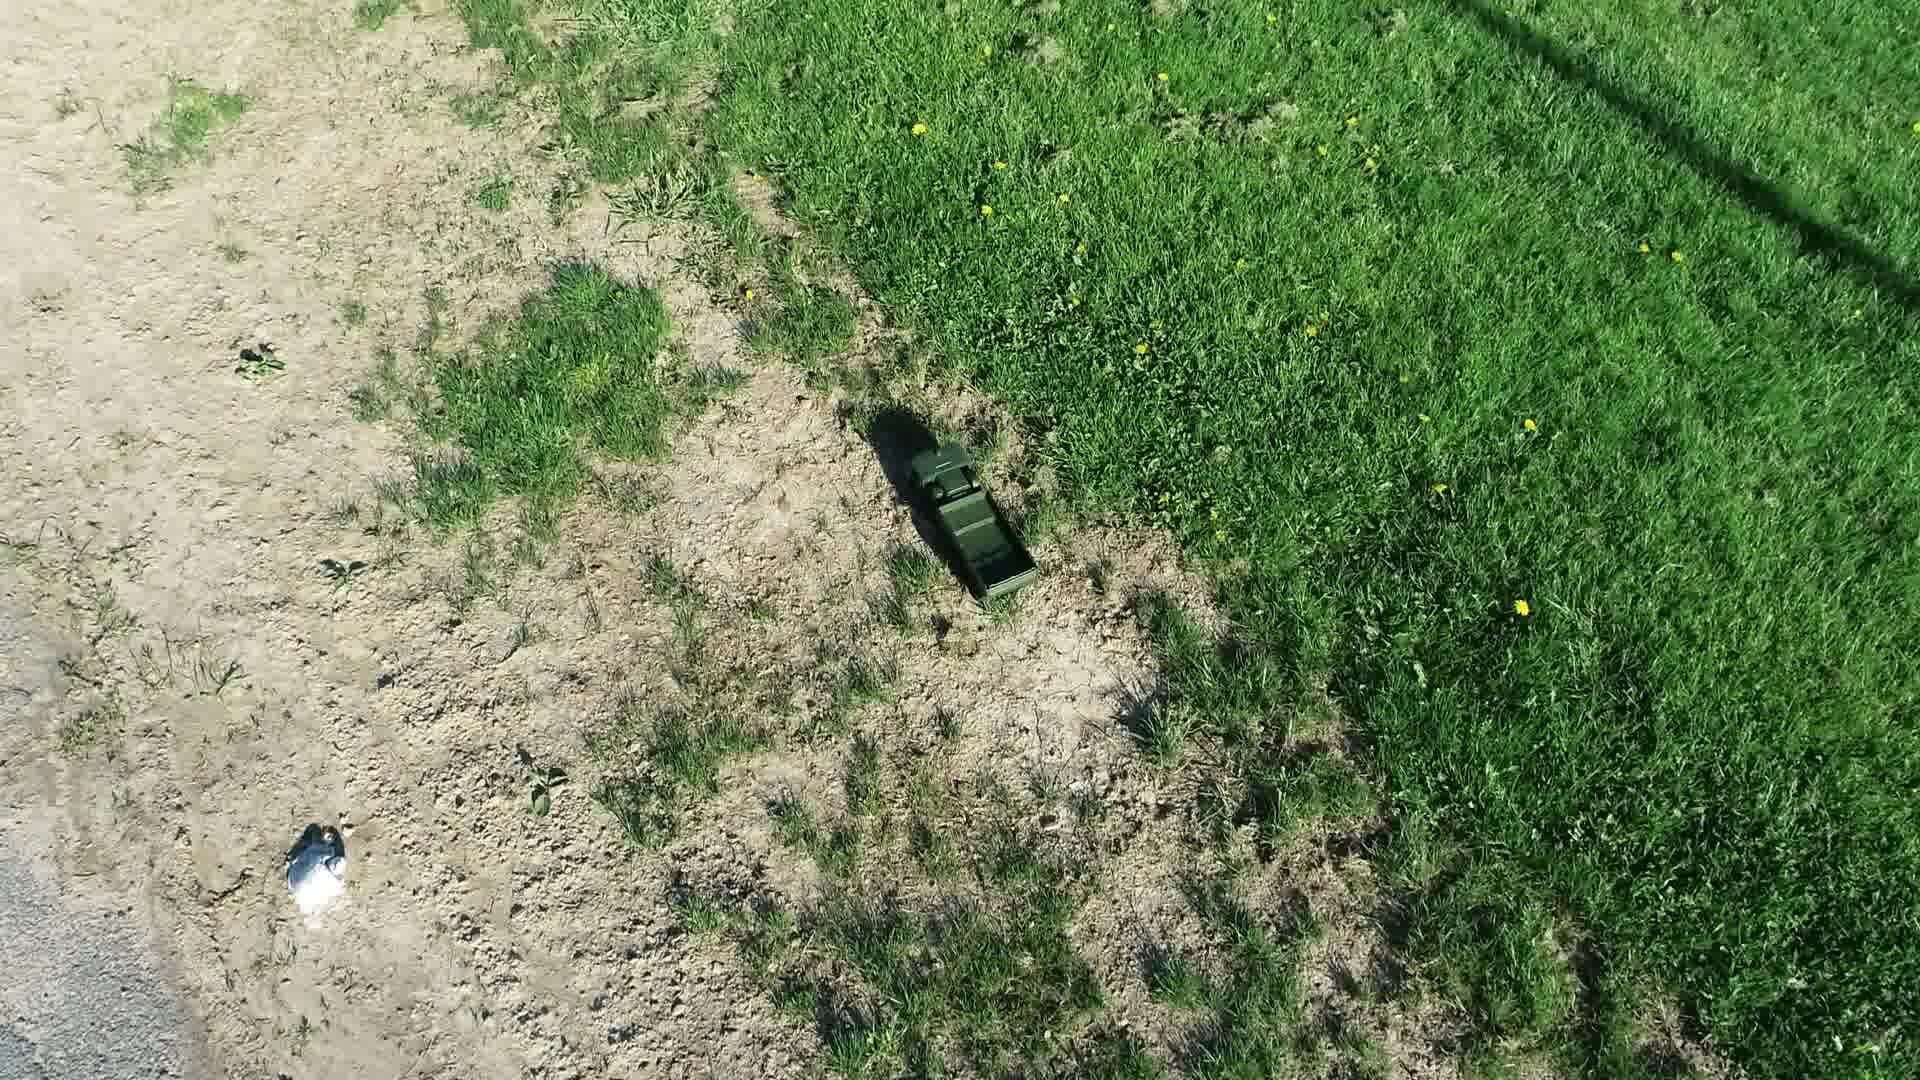transporter9: (886, 440, 1058, 620)
